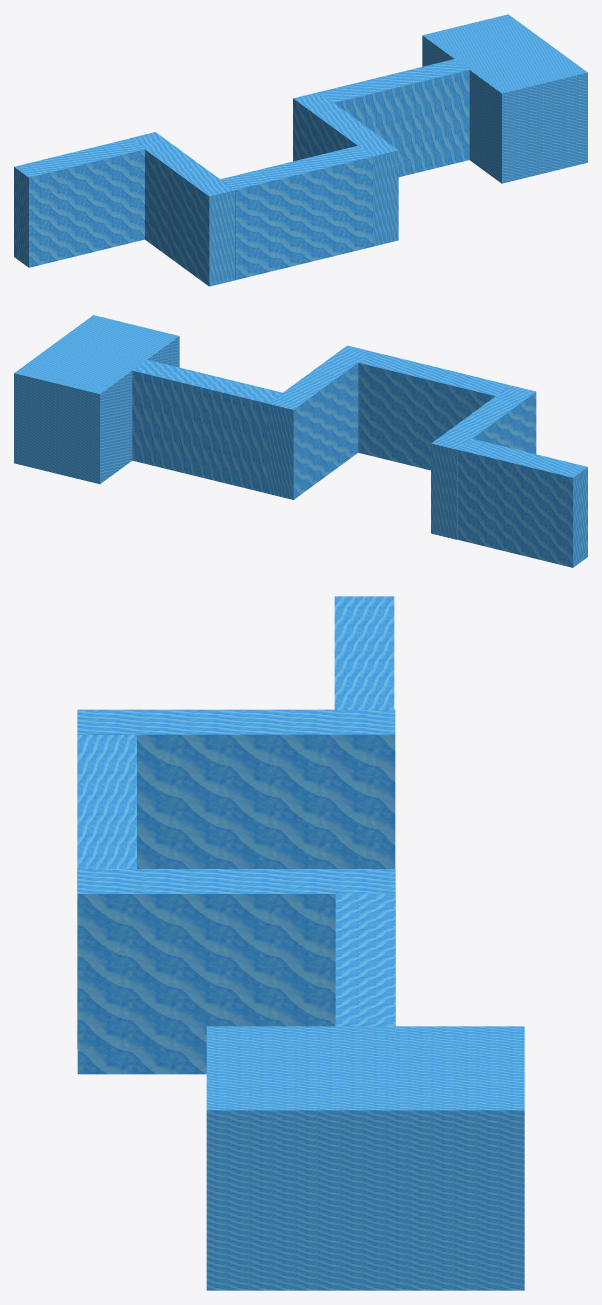
File: StoS.obj
3 views of the same model, one above another, from view 1: azimuth 30°, elevation 25°; view 2: azimuth 150°, elevation 25°; view 3: azimuth 270°, elevation 25° (orthographic). The views are drawn at different scales.
Visible parts, largest first — view 1: Grass.139_Grass.065, Grass.148_Grass.067, Grass.129_Grass.063, Grass.122_Grass.062, Grass.126_Grass.062, Grass.145_Grass.066, Grass.124_Grass.062, Grass.143_Grass.066, Grass.133_Grass.064, Grass.137_Grass.065, Grass.135_Grass.064, Grass.127_Grass.063 (+4 smaller); view 2: Grass.128_Grass.063, Grass.149_Grass.067, Grass.138_Grass.065, Grass.123_Grass.062, Grass.126_Grass.062, Grass.135_Grass.064, Grass.124_Grass.062, Grass.132_Grass.064, Grass.142_Grass.066, Grass.145_Grass.066, Grass.137_Grass.065, Grass.127_Grass.063 (+4 smaller); view 3: Grass.125_Grass.062, Grass.134_Grass.064, Grass.144_Grass.066, Grass.126_Grass.062, Grass.146_Grass.066, Grass.127_Grass.063, Grass.137_Grass.065, Grass.136_Grass.064, Grass.147_Grass.067.
Boxes of the visible parts, bbox=[...] form: Grass.139_Grass.065: bbox=[235, 156, 372, 280]; Grass.148_Grass.067: bbox=[29, 149, 144, 267]; Grass.129_Grass.063: bbox=[334, 70, 469, 177]; Grass.122_Grass.062: bbox=[502, 72, 587, 183]; Grass.126_Grass.062: bbox=[422, 14, 587, 93]; Grass.145_Grass.066: bbox=[145, 150, 209, 286]; Grass.124_Grass.062: bbox=[422, 35, 501, 183]; Grass.143_Grass.066: bbox=[209, 190, 234, 286]; Grass.133_Grass.064: bbox=[373, 150, 398, 246]; Grass.137_Grass.065: bbox=[220, 145, 372, 189]; Grass.135_Grass.064: bbox=[293, 98, 357, 161]; Grass.127_Grass.063: bbox=[318, 59, 468, 102]; Grass.128_Grass.063: bbox=[132, 370, 267, 493]; Grass.149_Grass.067: bbox=[457, 449, 572, 567]; Grass.138_Grass.065: bbox=[358, 363, 495, 470]; Grass.123_Grass.062: bbox=[14, 373, 99, 484]; Grass.126_Grass.062: bbox=[14, 315, 178, 393]; Grass.135_Grass.064: bbox=[293, 363, 358, 499]; Grass.124_Grass.062: bbox=[100, 336, 179, 483]; Grass.132_Grass.064: bbox=[267, 404, 293, 499]; Grass.142_Grass.066: bbox=[431, 443, 456, 539]; Grass.145_Grass.066: bbox=[457, 392, 536, 539]; Grass.137_Grass.065: bbox=[358, 352, 509, 395]; Grass.127_Grass.063: bbox=[133, 359, 282, 403]; Grass.125_Grass.062: bbox=[206, 1110, 524, 1290]; Grass.134_Grass.064: bbox=[77, 894, 395, 1074]; Grass.144_Grass.066: bbox=[77, 734, 395, 868]; Grass.126_Grass.062: bbox=[206, 1026, 524, 1110]; Grass.146_Grass.066: bbox=[77, 709, 395, 734]; Grass.127_Grass.063: bbox=[335, 893, 395, 1026]; Grass.137_Grass.065: bbox=[77, 735, 136, 868]; Grass.136_Grass.064: bbox=[77, 869, 395, 893]; Grass.147_Grass.067: bbox=[334, 596, 394, 709].
Size of the model in its own units: 52.93 by 8.65 by 19.47.
6 materials, 6 textured.
